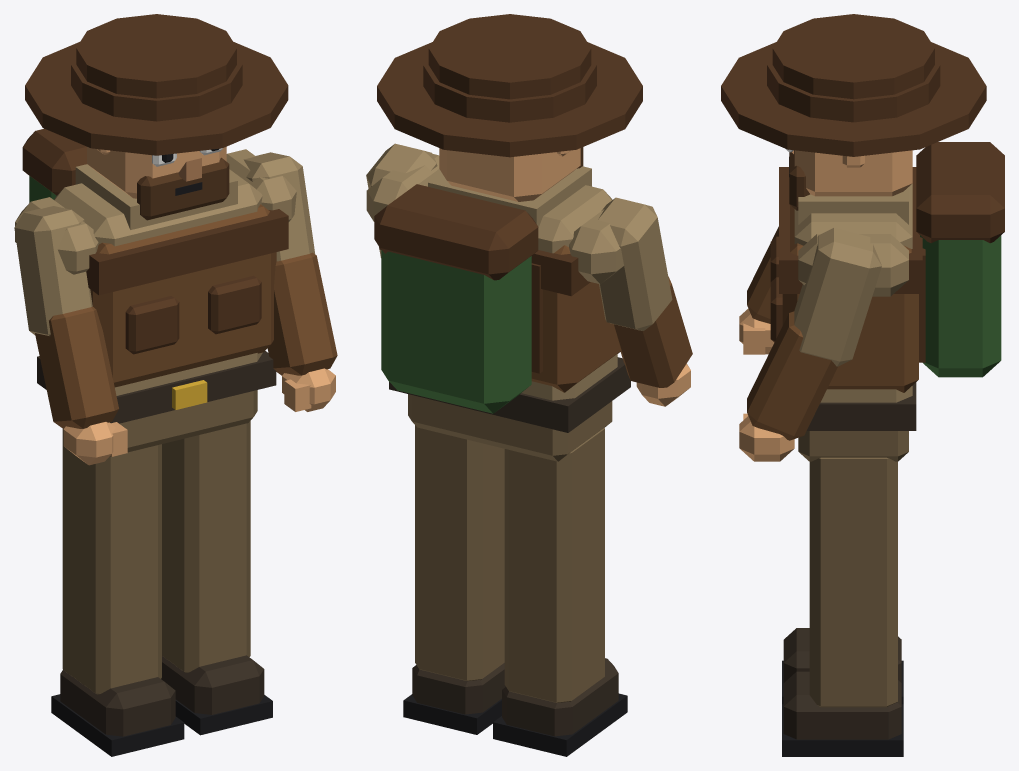
File: char_hunter.glb
The picture shows the model from 3 angles, left to right: view 1: azimuth 30°, elevation 25°; view 2: azimuth 150°, elevation 25°; view 3: azimuth 270°, elevation 25°; orthographic projection.
Parts seen in each view (by area): view 1: char_hunter; view 2: char_hunter; view 3: char_hunter.
Boxes of the visible parts, x1,y1,x2,y2 form: char_hunter: (14,14,337,756); char_hunter: (366,14,692,756); char_hunter: (721,14,1004,756).
Size of the model in its own units: 0.85 by 2.01 by 0.77.
